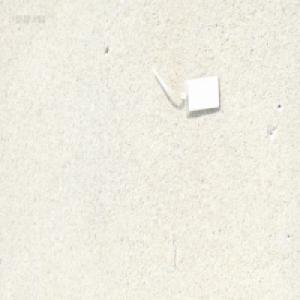LuggageTag: (150, 58, 222, 117)
